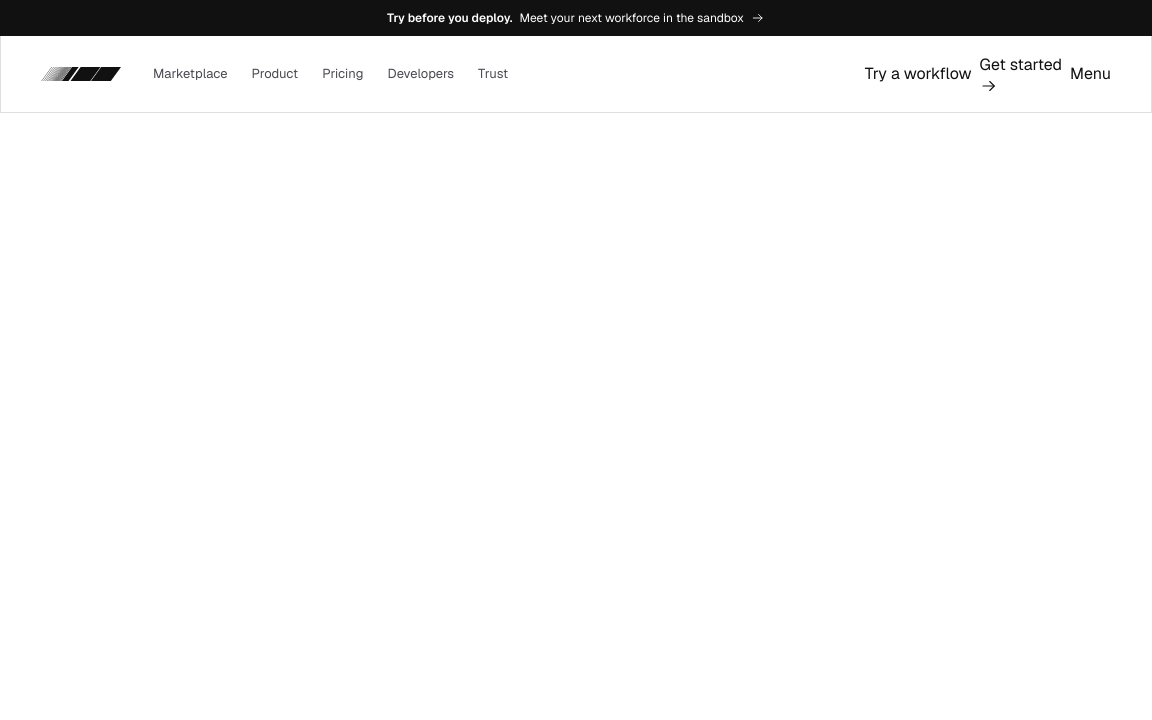
Scenario: Nav › has the logo link, primary actions and a menu dialog with the links
Step 1. Click the button "Menu" → click(1090, 74), box top-left (1070, 52), bottom-right (1111, 96)
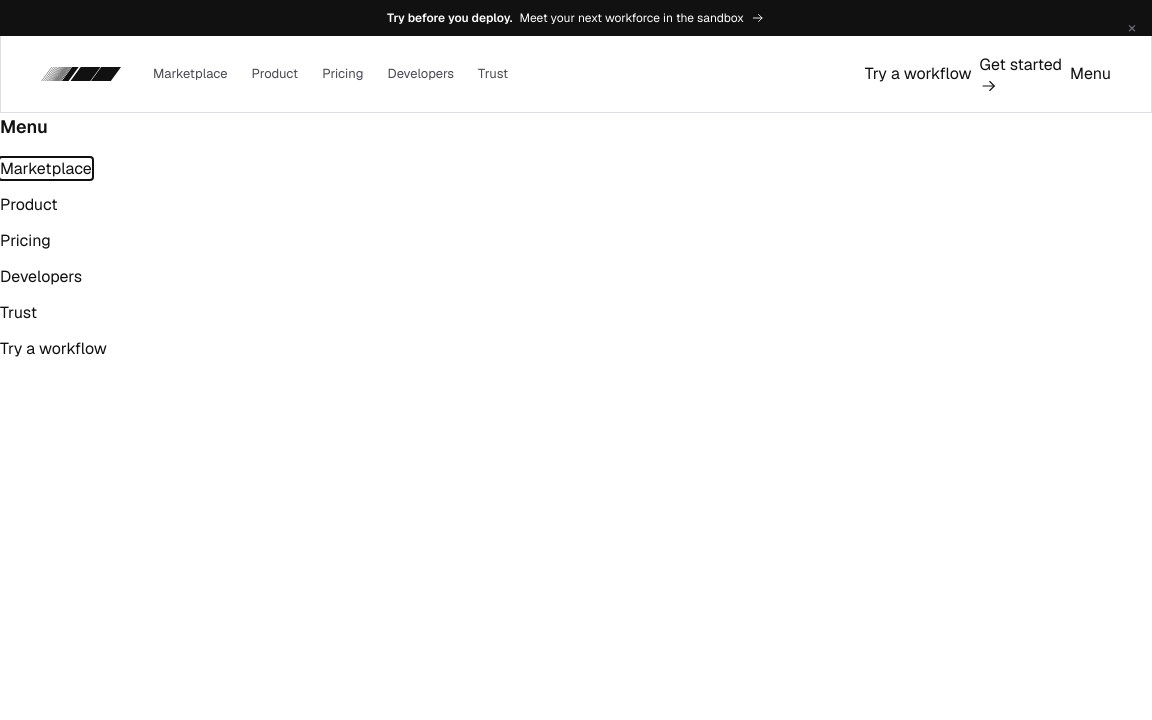
Now the dialog "Menu" shows "Marketplace", box top-left (0, 158), bottom-right (92, 179)
